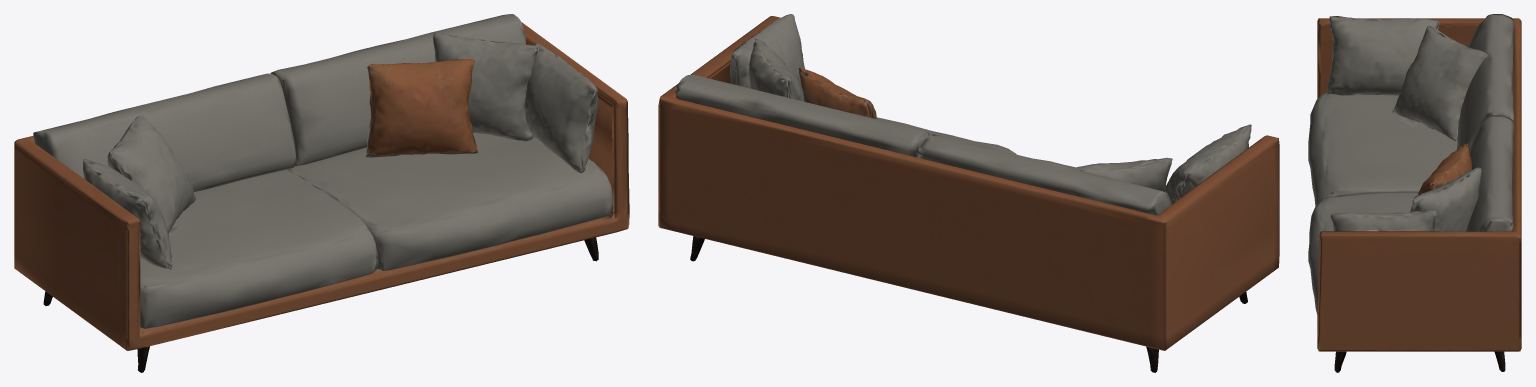
3 renders of one model, left to right at view 1: azimuth 30°, elevation 25°; view 2: azimuth 150°, elevation 25°; view 3: azimuth 270°, elevation 25°, orthographic. The views are drawn at different scales.
Visible parts, largest first — view 1: tripo_node_2762a62e-859a-4e7e-8d20-6d95f9a18033; view 2: tripo_node_2762a62e-859a-4e7e-8d20-6d95f9a18033; view 3: tripo_node_2762a62e-859a-4e7e-8d20-6d95f9a18033.
Boxes of the visible parts, left/top/right/bottom form: tripo_node_2762a62e-859a-4e7e-8d20-6d95f9a18033: left=14, top=14, right=629, bottom=372; tripo_node_2762a62e-859a-4e7e-8d20-6d95f9a18033: left=658, top=14, right=1279, bottom=372; tripo_node_2762a62e-859a-4e7e-8d20-6d95f9a18033: left=1308, top=14, right=1521, bottom=372.
Bounding box in the file's own units: 1.95 × 0.7 × 0.8.
Materials: 2 (2 with a texture image).
